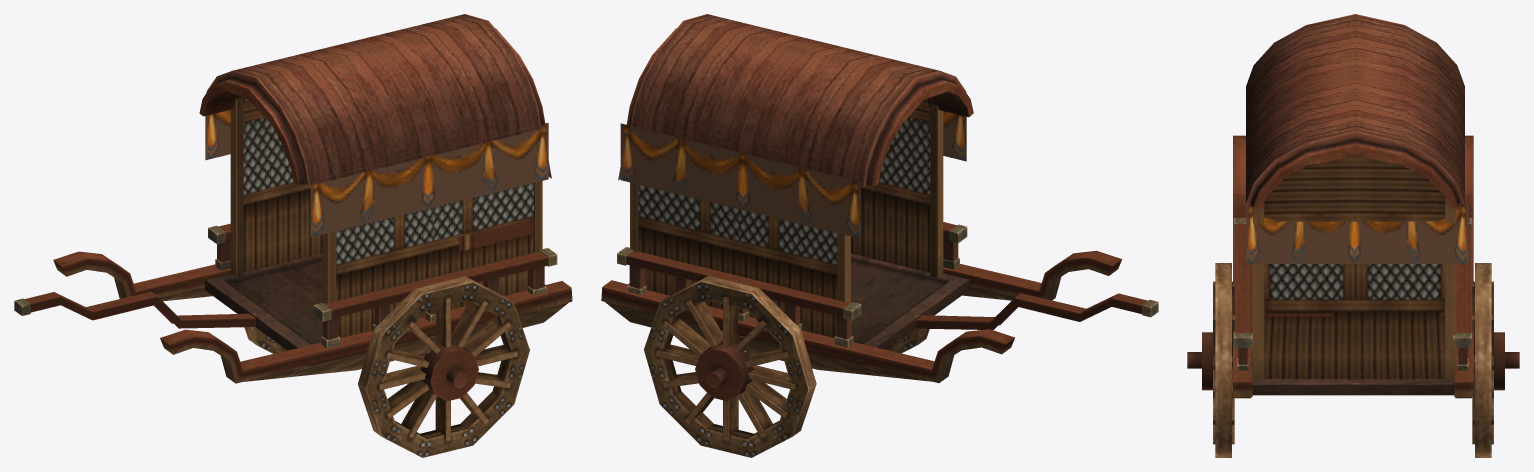
The model's file is qx_mache.FBX.
The picture shows the model from 3 angles, left to right: view 1: azimuth 30°, elevation 25°; view 2: azimuth 150°, elevation 25°; view 3: azimuth 270°, elevation 25°; orthographic projection. The views are drawn at different scales.
Parts seen in each view (by area): view 1: Object017, m3_mache; view 2: Object017, m3_mache; view 3: Object017, m3_mache.
Part boxes in pixels (x1,y1,x2,y2): Object017: [14, 14, 572, 383]; m3_mache: [244, 276, 529, 457]; Object017: [601, 14, 1158, 383]; m3_mache: [644, 276, 929, 457]; Object017: [1233, 14, 1473, 398]; m3_mache: [1187, 263, 1519, 457].
Bounding box in the file's own units: 3.21 × 2.2 × 1.8.
